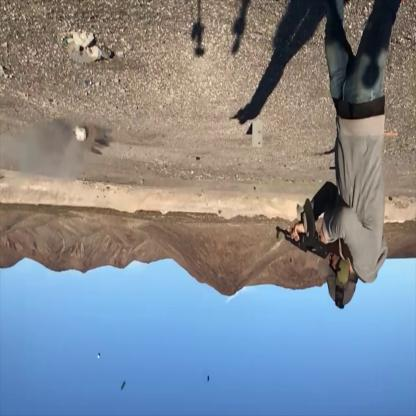long weapon: (266, 193, 350, 279)
